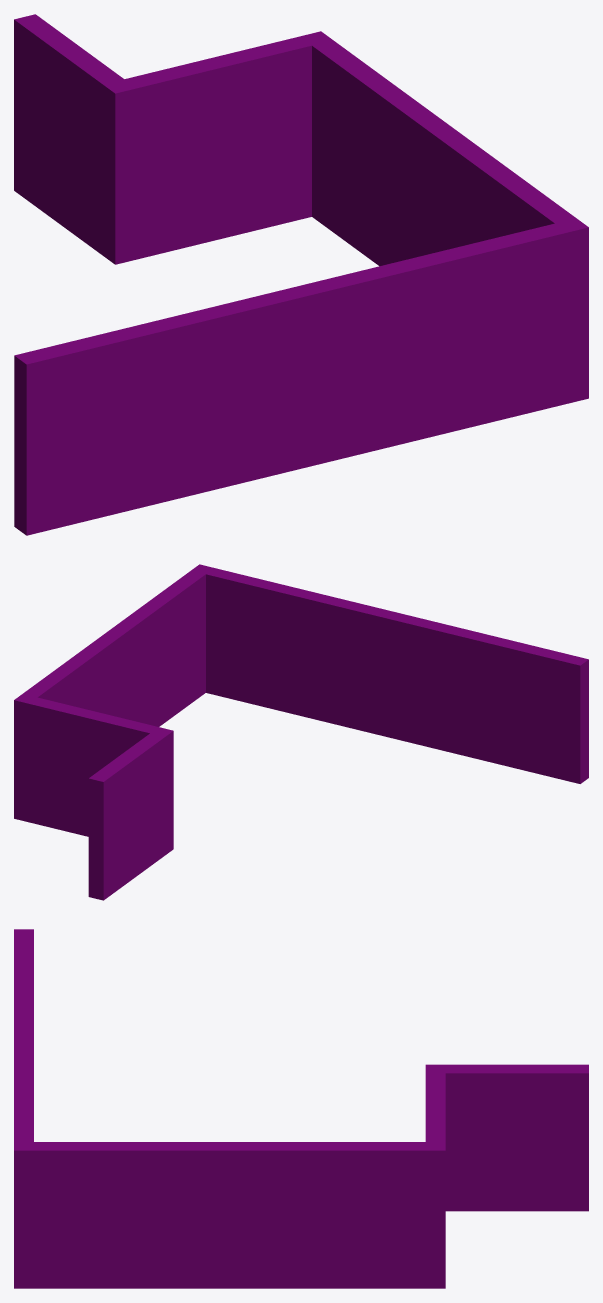
Rendered from WW_ArcadeArea_Env_01.fbx.
3 views of the same model, one above another, from view 1: azimuth 30°, elevation 25°; view 2: azimuth 150°, elevation 25°; view 3: azimuth 270°, elevation 25° (orthographic). The views are drawn at different scales.
Visible parts, largest first — view 1: ArcadeWall1, ArcadeWall2, ArcadeWall, ArcadeWall3; view 2: ArcadeWall1, ArcadeWall, ArcadeWall2, ArcadeWall3; view 3: ArcadeWall, ArcadeWall3, ArcadeWall1, ArcadeWall2.
Boxes of the visible parts, box(x1,y1,x2,y2) form: ArcadeWall1: box(14, 223, 567, 535); ArcadeWall2: box(103, 36, 311, 264); ArcadeWall: box(300, 31, 588, 403); ArcadeWall3: box(14, 14, 123, 255); ArcadeWall1: box(206, 568, 588, 783); ArcadeWall: box(14, 564, 213, 822); ArcadeWall2: box(29, 697, 173, 855); ArcadeWall3: box(88, 733, 164, 900); ArcadeWall: box(14, 1142, 445, 1288); ArcadeWall3: box(445, 1064, 588, 1211); ArcadeWall1: box(14, 929, 33, 1141); ArcadeWall2: box(425, 1064, 445, 1141).
Bounding box in the file's own units: 1144 × 333 × 1257.
